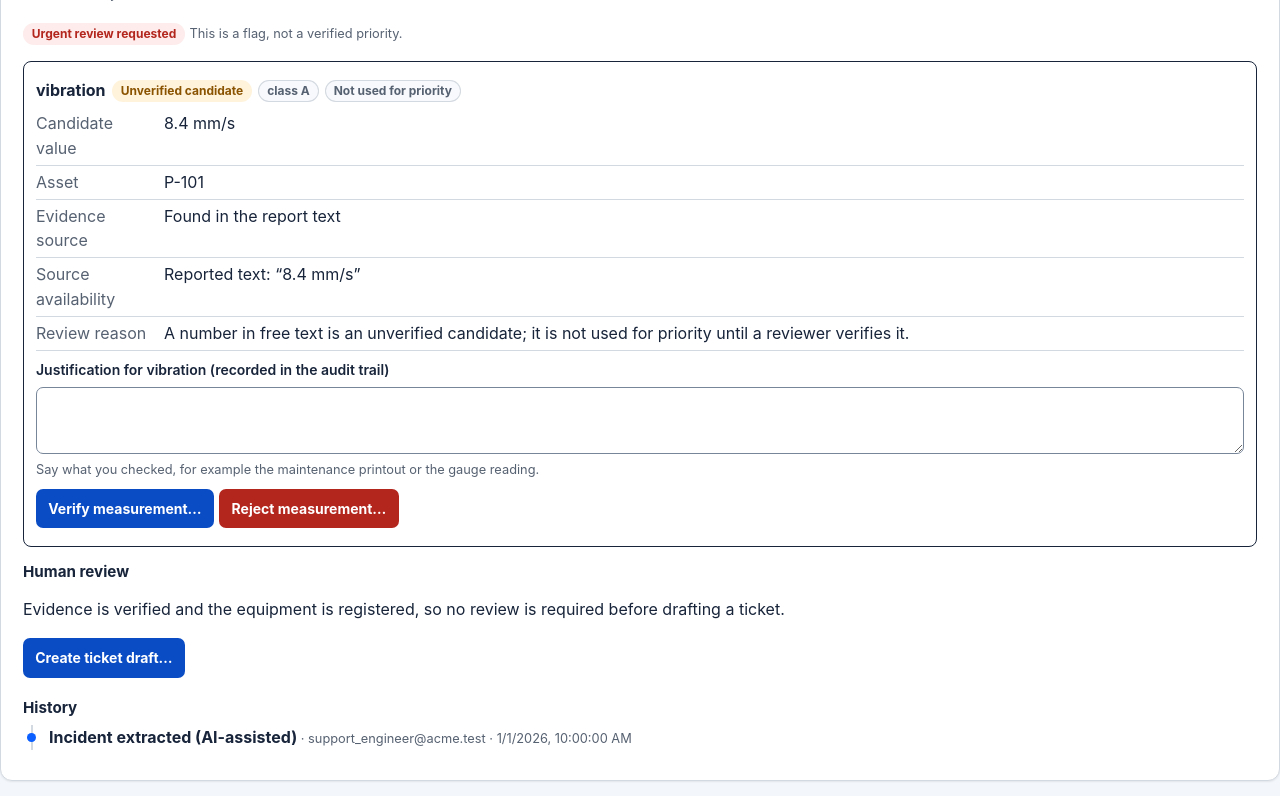
Test: measurement review panel › shows the server's separation-of-duties refusal when the creator is not visible in history
(page scrolled)
Type "Checked the maintenance printout." into the text box labelled "Justification for vibration (recorded in the audit trail)" at x=640, y=420, box x1=36 y1=387 x2=1244 y2=454
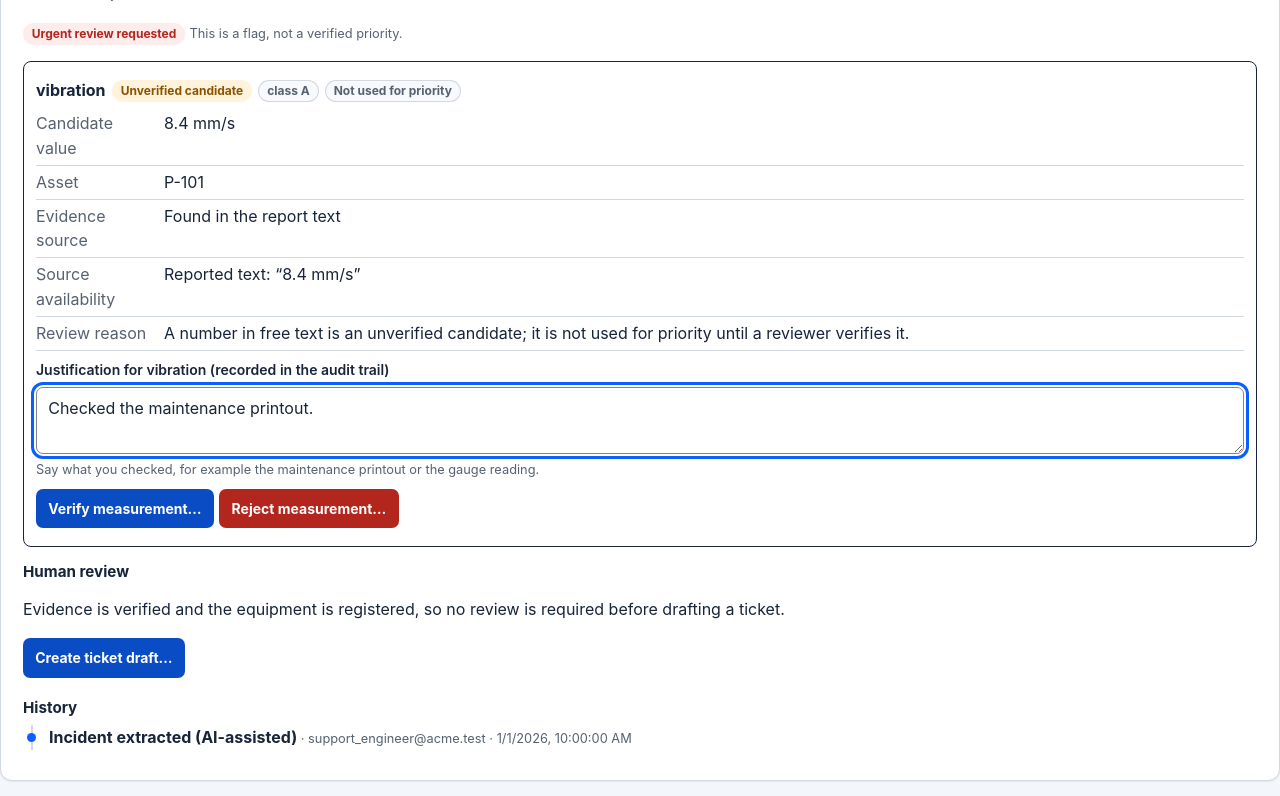
Click the button "Verify measurement…" at x=125, y=508, box x1=36 y1=488 x2=214 y2=528
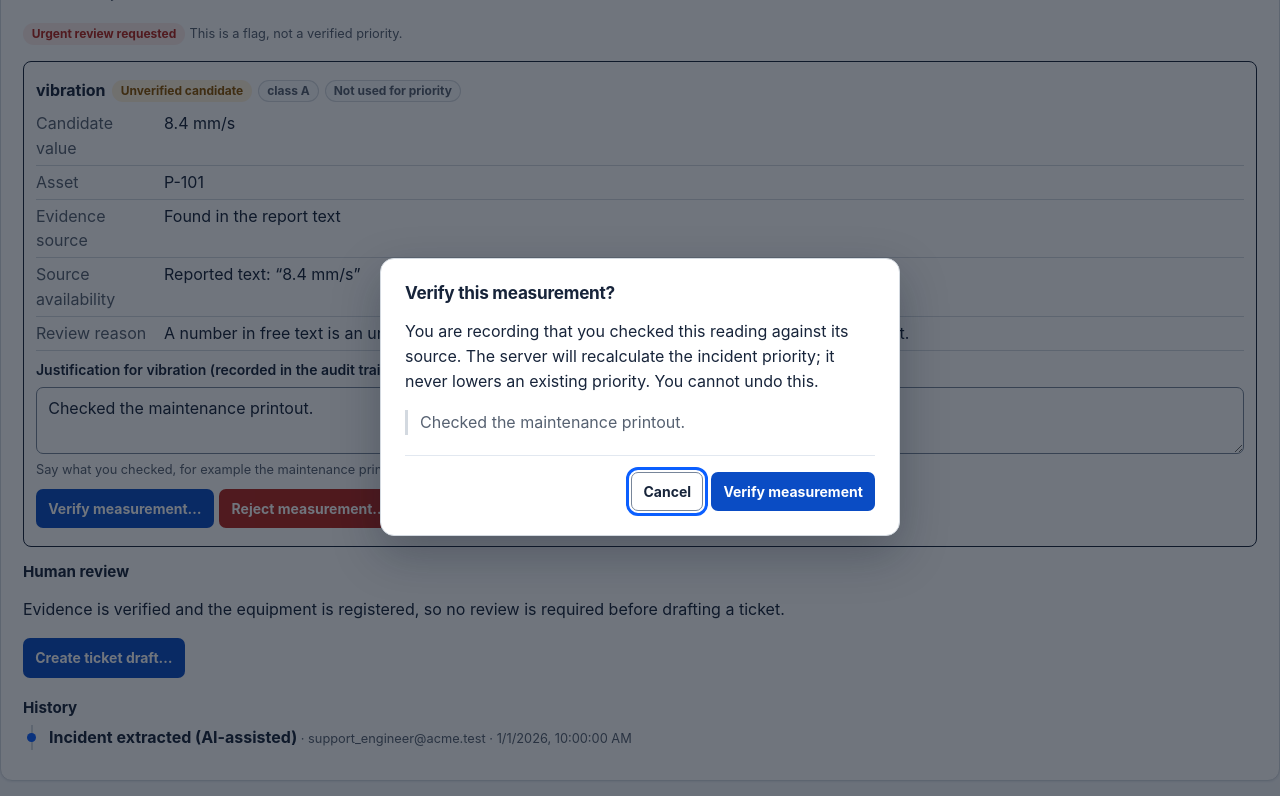
Click the button "Verify measurement" at x=793, y=491, box x1=711 y1=472 x2=875 y2=511
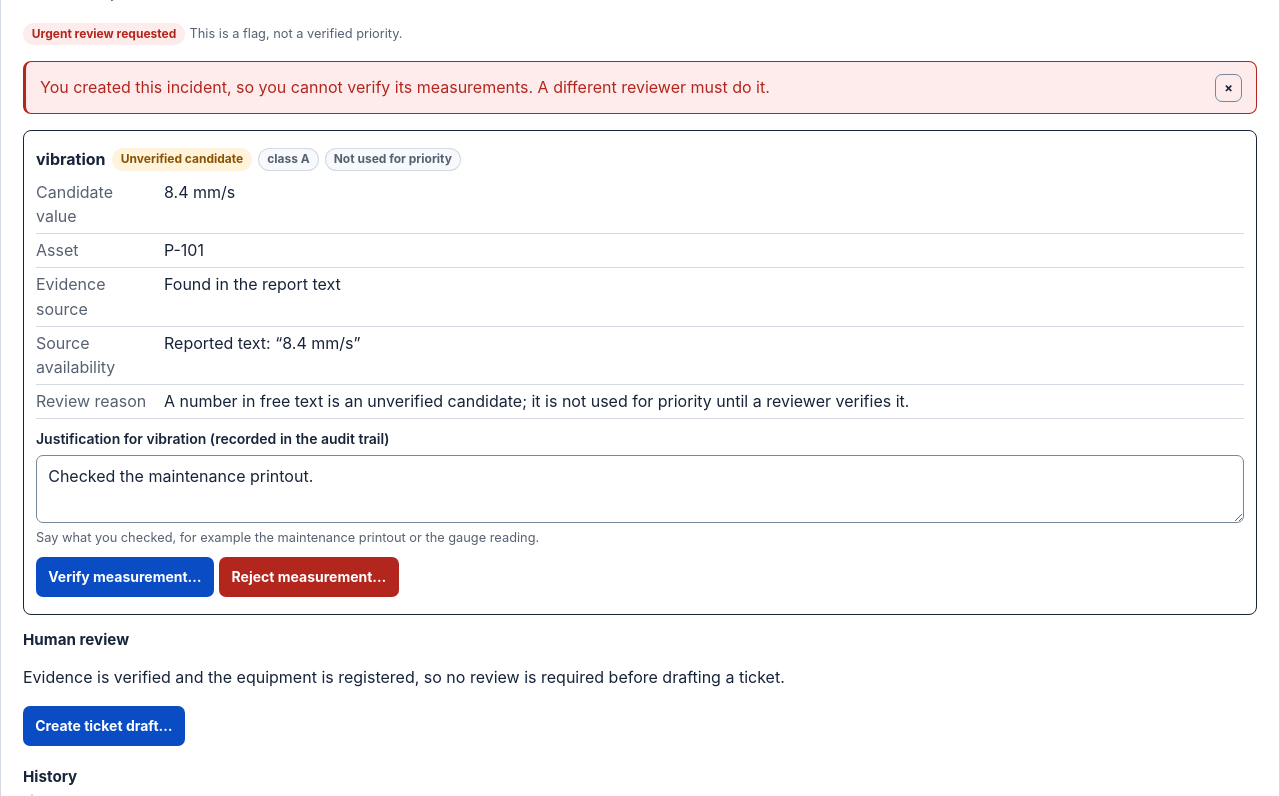
Expected: the text "Unverified candidate" is shown, x1=112 y1=148 x2=252 y2=171
Expected: the text "You created this incident, so you cannot verify its measurements" is shown, x1=40 y1=77 x2=770 y2=97
